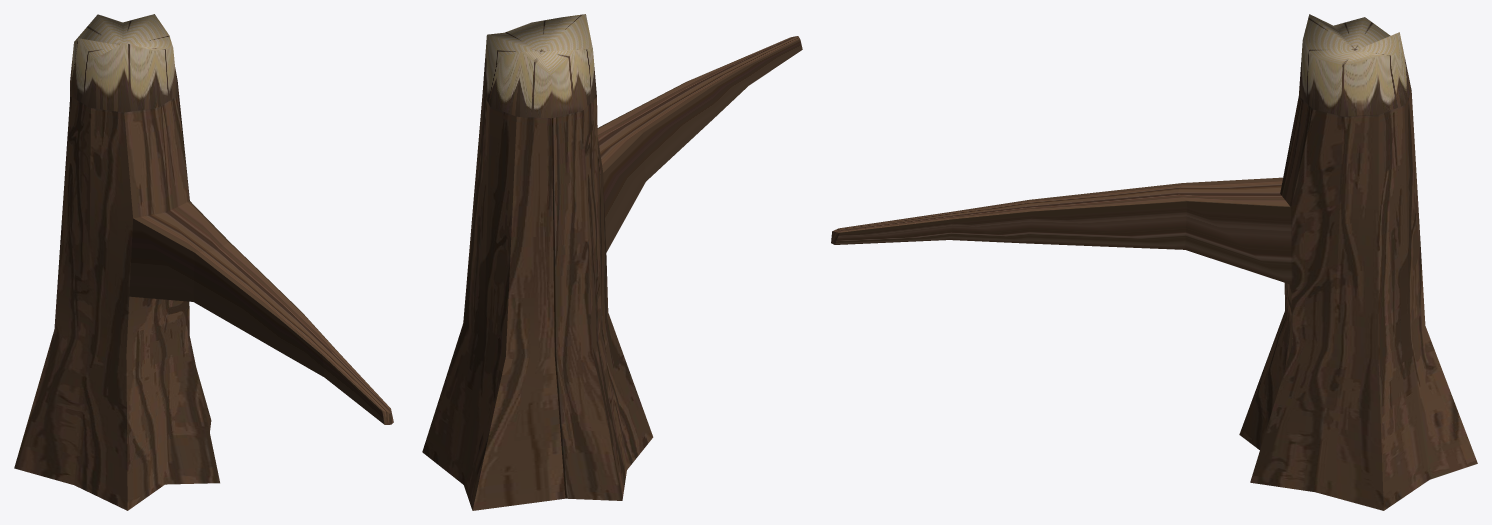
File: Log branch.fbx
3 renders of one model, left to right at view 1: azimuth 30°, elevation 25°; view 2: azimuth 150°, elevation 25°; view 3: azimuth 270°, elevation 25°, orthographic.
Visible parts, largest first — view 1: pCylinder4; view 2: pCylinder4; view 3: pCylinder4.
Boxes of the visible parts, x1,y1,x2,y2 form: pCylinder4: [14, 14, 393, 510]; pCylinder4: [422, 14, 802, 510]; pCylinder4: [831, 14, 1477, 510].
Size of the model in its own units: 3.5 by 7.38 by 9.92.
1 material, 1 textured.
